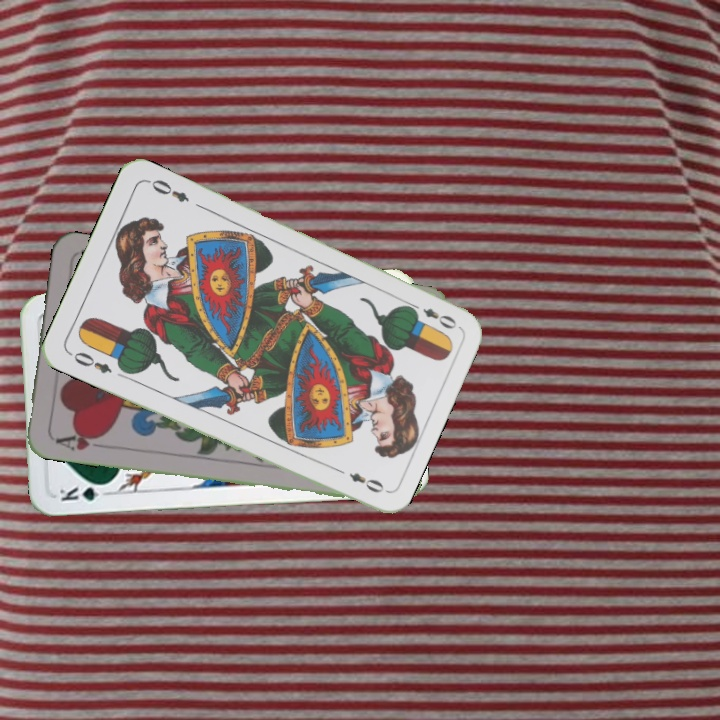EO: (404, 298, 460, 332), (65, 348, 115, 376)
GK: (55, 480, 113, 504)
HA: (49, 427, 108, 453)
